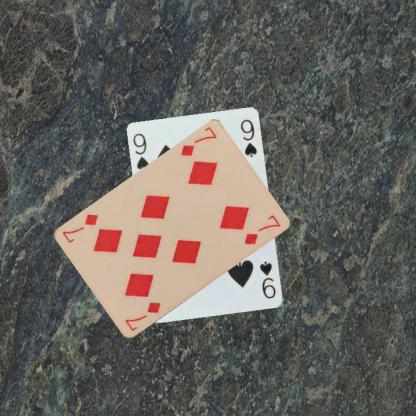7d: (122, 299, 162, 333), (178, 124, 218, 158)
9s: (130, 130, 151, 172), (257, 258, 277, 300)
